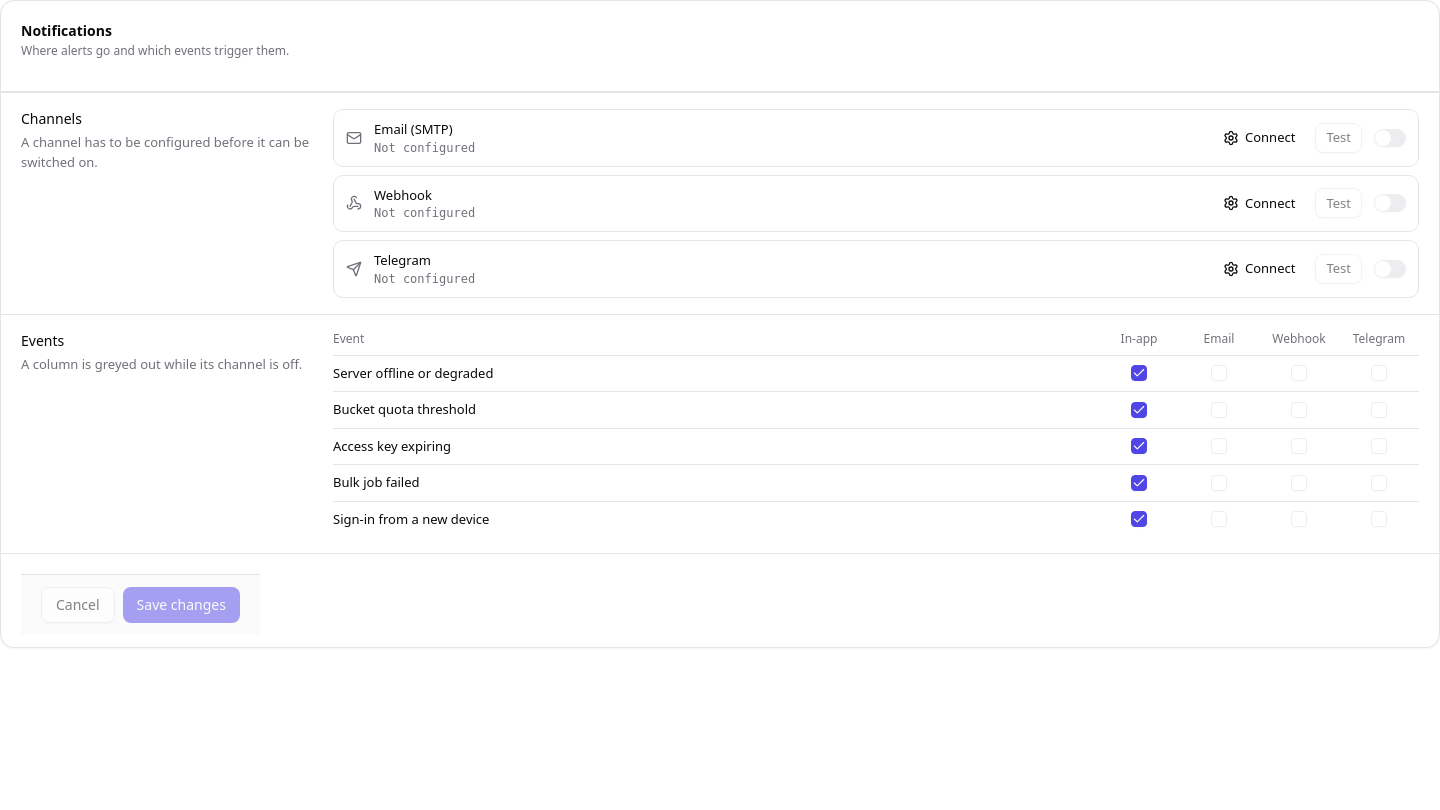
notification channels card › offers no Disconnect for a channel that was never configured
Note: Email is at its defaults: there is nothing to disconnect.
Click the button "Connect" in the row of "Email (SMTP)".
click(1259, 138)  # box [1215,123,1303,153]
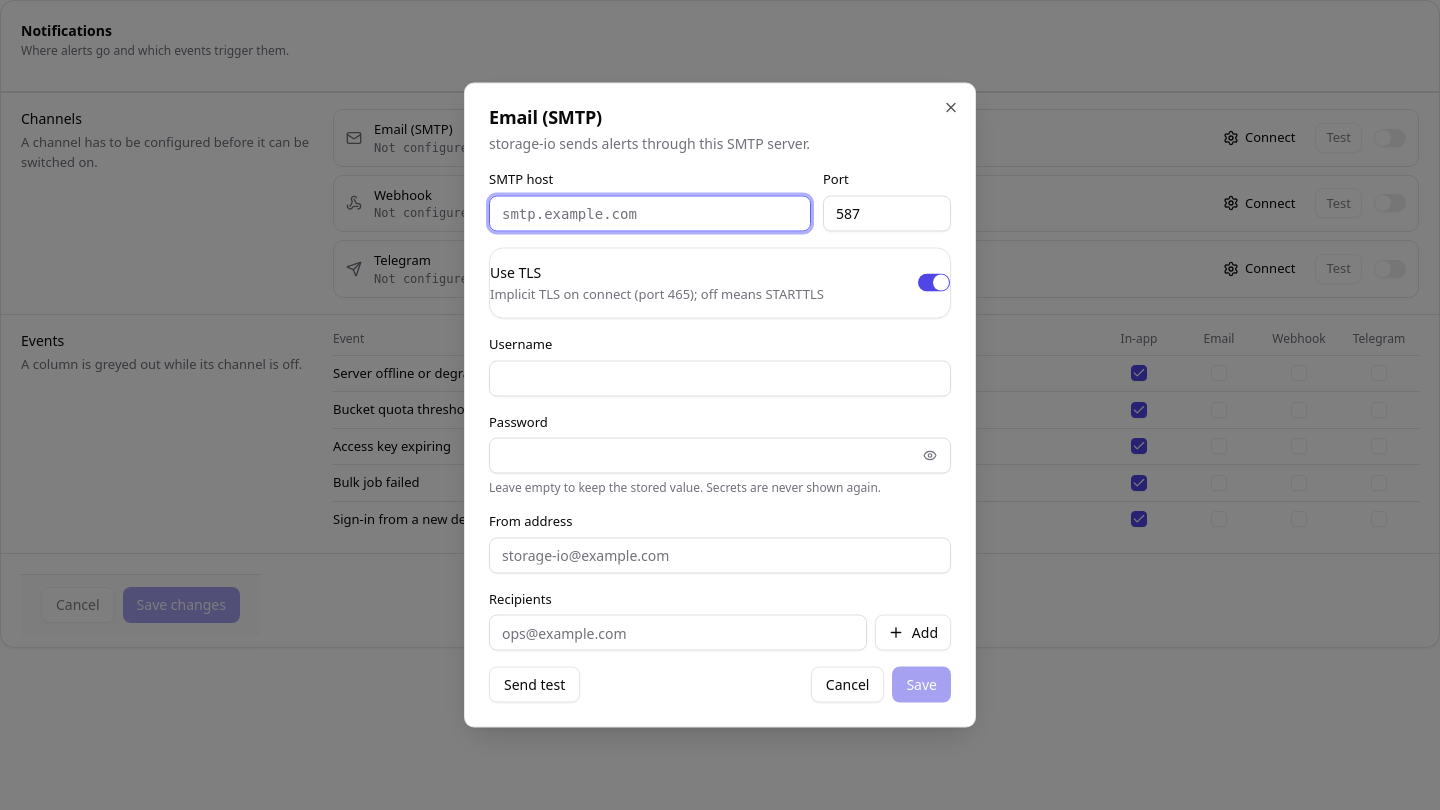
Check: the dialog is shown, box [464,82,976,728]
